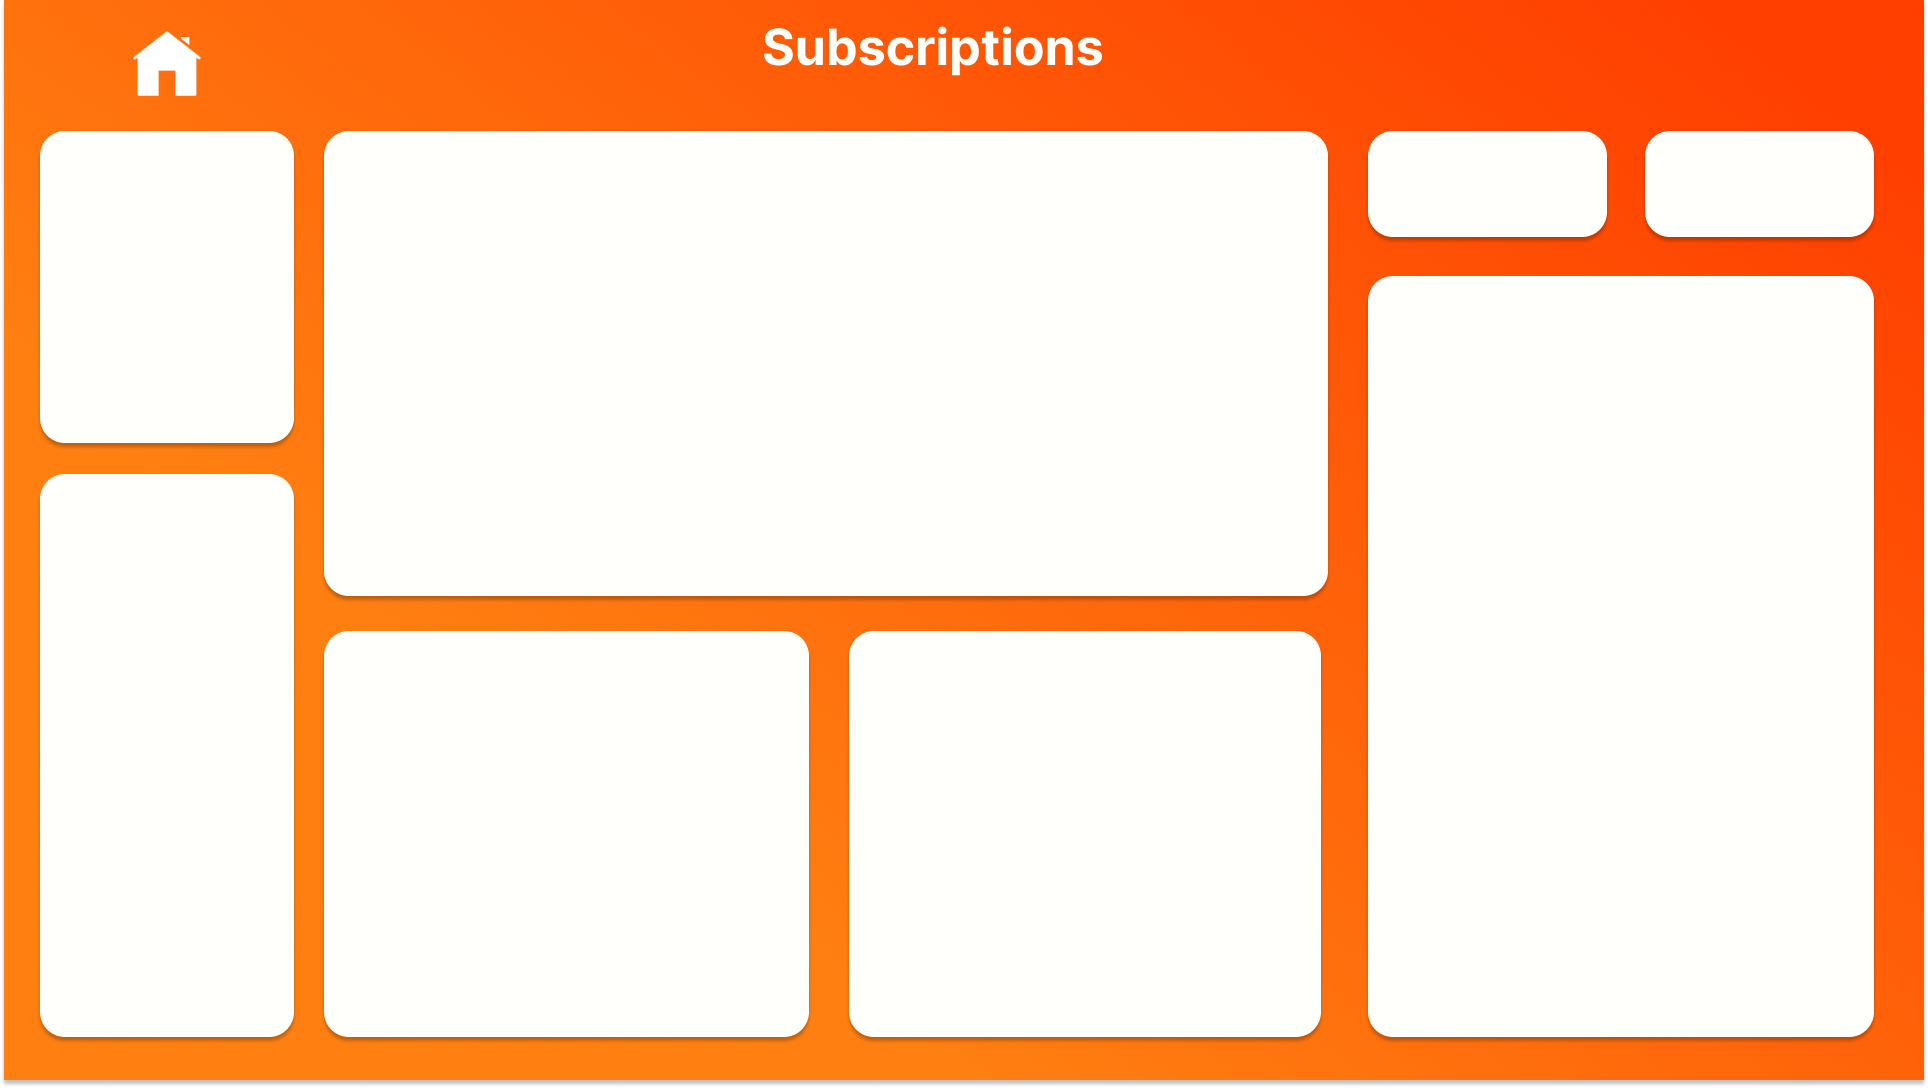

The dashboard page shown, as its layout file describes it:
{"tool":"powerbi","page":{"name":"Soubscriptions","canvas":[1920,1080],"ordinal":2},"visuals":[{"type":"group","id":"g1","title":"bg","box":[0,0,1920,1080],"z":0},{"type":"image","box":[0,0,1920,1080.6],"z":0,"group":"g1"},{"type":"group","id":"g2","title":"title of slices","box":[50,492.9,242.4,391],"z":0,"group":"g3"},{"type":"textbox","title":"titre de filtre","box":[50,492.9,242.4,51],"z":0,"group":"g2"},{"type":"slicer","fields":{"Values":["DimDate1.Date"]},"box":[50,668.4,242.9,88],"z":0,"group":"g4"},{"type":"actionButton","box":[131.7,27,77.8,80.9],"z":1000,"group":"g1"},{"type":"group","id":"g3","title":"filtres","box":[50,492.9,242.9,490],"z":1000},{"type":"textbox","box":[61.1,543.9,231,44.1],"z":1000,"group":"g2"},{"type":"slicer","fields":{"Values":["transactions.num_phone"]},"box":[50,882.1,242.9,63.3],"z":1000,"group":"g4"},{"type":"actionButton","box":[109.5,945.4,112.6,37.5],"z":1000,"group":"g3"},{"type":"group","id":"g4","title":"Slicers","box":[50,586.8,242.9,358.6],"z":2000,"group":"g3"},{"type":"slicer","fields":{"Values":["transactions.type_compte"]},"box":[50,586.8,242.9,51.5],"z":2000,"group":"g4"},{"type":"textbox","box":[337.1,630,297.1,45.7],"z":2000},{"type":"textbox","box":[61.1,635.8,231,37],"z":2000,"group":"g2"},{"type":"textbox","box":[1402.9,141.4,152.9,40],"z":3000},{"type":"textbox","box":[61.1,756.2,231,40.6],"z":3000,"group":"g2"},{"type":"slicer","fields":{"Values":["souscriptions.ville"]},"box":[50,781.1,242.9,56.9],"z":3000,"group":"g4"},{"type":"textbox","box":[347.1,128.6,711.4,50],"z":4000},{"type":"textbox","box":[61.1,838.6,231,45.3],"z":4000,"group":"g2"},{"type":"pieChart","fields":{"Category":["souscriptions.statut_switch"],"Y":["CountNonNull(souscriptions.num_phone)"]},"box":[850,675.7,454.3,338.6],"z":5000},{"type":"map","fields":{"Category":["souscriptions.ville"]},"box":[337.1,672.9,452.9,344.3],"z":6000},{"type":"areaChart","fields":{"Category":["souscriptions.date_val.Variation.Date Hierarchy.Year","souscriptions.date_val.Variation.Date Hierarchy.Month"],"Y":["CountNonNull(souscriptions.num_phone)"]},"box":[337.1,171.4,971.4,404.3],"z":7000},{"type":"barChart","fields":{"Y":["CountNonNull(souscriptions.num_phone)"]},"box":[51.4,161.4,237.1,267.1],"z":8000},{"type":"card","fields":{"Values":["CountNonNull(souscriptions.num_phone)"]},"box":[1375.7,161.4,210,61.4],"z":9000},{"type":"card","box":[1640,138.6,212.9,92.9],"z":10000},{"type":"clusteredBarChart","box":[1374.3,338.6,478.6,678.6],"z":11000},{"type":"textbox","box":[860,631.4,297.1,45.7],"z":12000}]}

Visuals, with their boxes in screenshot pixels (x1, y1, x2, y2), scaled from the page's 1920x1080 canvas onto the 1928x1088 screenshot:
"bg" group: [x1=0, y1=0, x2=1927, y2=1087]
image: [x1=0, y1=0, x2=1927, y2=1087]
"title of slices" group: [x1=50, y1=497, x2=294, y2=890]
"titre de filtre" textbox: [x1=50, y1=497, x2=294, y2=548]
slicer - DimDate1.Date: [x1=50, y1=673, x2=294, y2=762]
actionButton: [x1=132, y1=27, x2=210, y2=109]
"filtres" group: [x1=50, y1=497, x2=294, y2=990]
textbox: [x1=61, y1=548, x2=293, y2=592]
slicer - transactions.num_phone: [x1=50, y1=889, x2=294, y2=952]
actionButton: [x1=110, y1=952, x2=223, y2=990]
"Slicers" group: [x1=50, y1=591, x2=294, y2=952]
slicer - transactions.type_compte: [x1=50, y1=591, x2=294, y2=643]
textbox: [x1=339, y1=635, x2=637, y2=681]
textbox: [x1=61, y1=641, x2=293, y2=678]
textbox: [x1=1409, y1=142, x2=1562, y2=183]
textbox: [x1=61, y1=762, x2=293, y2=803]
slicer - souscriptions.ville: [x1=50, y1=787, x2=294, y2=844]
textbox: [x1=349, y1=130, x2=1063, y2=180]
textbox: [x1=61, y1=845, x2=293, y2=890]
pieChart - souscriptions.statut_switch x CountNonNull(souscriptions.num_phone): [x1=854, y1=681, x2=1310, y2=1022]
map - souscriptions.ville: [x1=339, y1=678, x2=793, y2=1025]
areaChart - souscriptions.date_val.Variation.Date Hierarchy.Year x souscriptions.date_val.Variation.Date Hierarchy.Month: [x1=339, y1=173, x2=1314, y2=580]
barChart - CountNonNull(souscriptions.num_phone): [x1=52, y1=163, x2=290, y2=432]
card - CountNonNull(souscriptions.num_phone): [x1=1381, y1=163, x2=1592, y2=224]
card: [x1=1647, y1=140, x2=1861, y2=233]
clusteredBarChart: [x1=1380, y1=341, x2=1861, y2=1025]
textbox: [x1=864, y1=636, x2=1162, y2=682]
